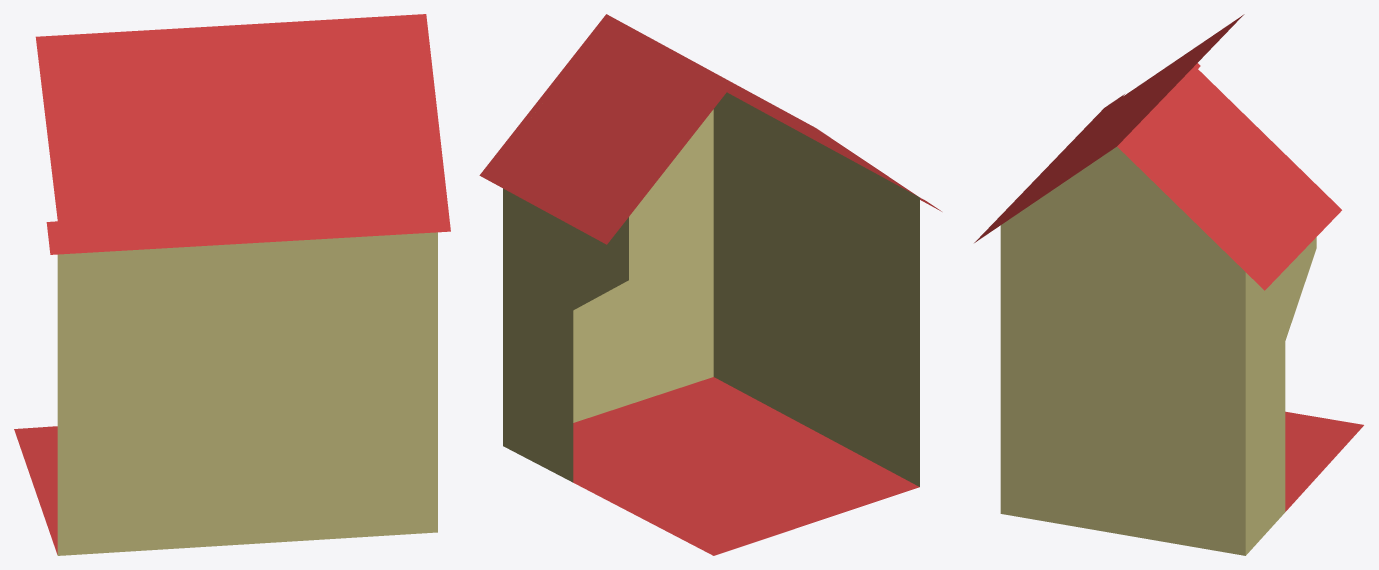
3 views of the same model, side by side, from view 1: azimuth 30°, elevation 25°; view 2: azimuth 150°, elevation 25°; view 3: azimuth 270°, elevation 25° (orthographic). The views are drawn at different scales.
Size of the model in its own units: 14.25 by 12.66 by 13.96.
